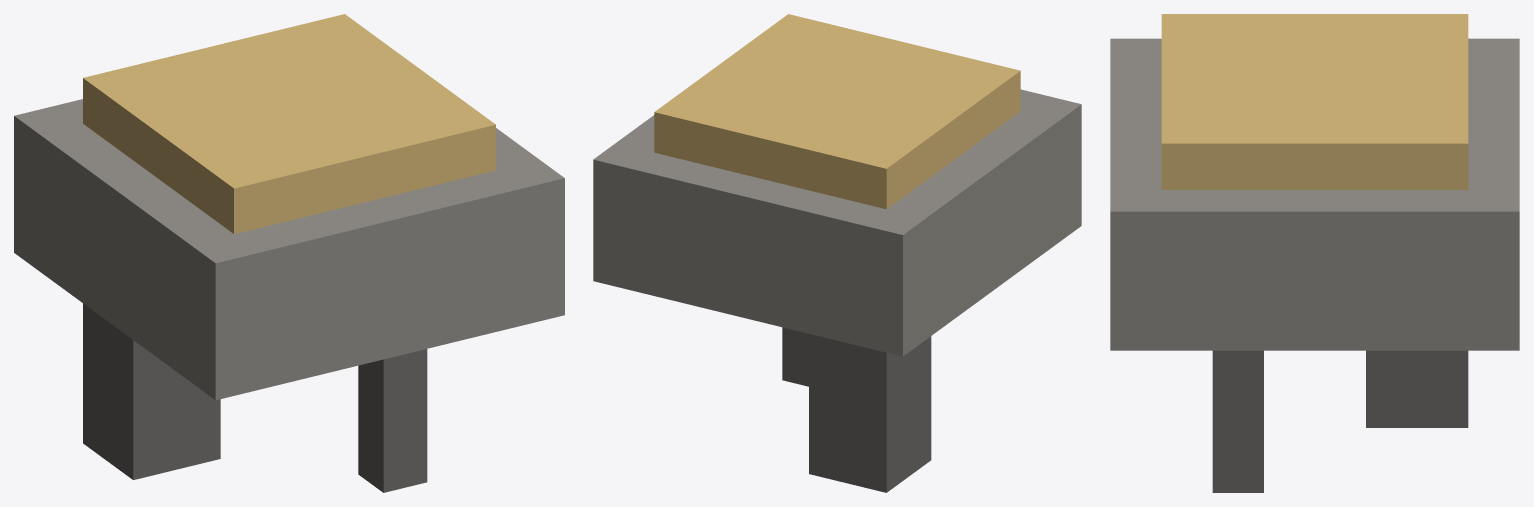
File: brasero_01.glb
3 renders of one model, left to right at view 1: azimuth 30°, elevation 25°; view 2: azimuth 150°, elevation 25°; view 3: azimuth 270°, elevation 25°, orthographic. The views are drawn at different scales.
Parts seen in each view (by area): view 1: brasero; view 2: brasero; view 3: brasero.
Boxes of the visible parts, x1,y1,x2,y2 form: brasero: (14,14,564,492); brasero: (593,14,1081,492); brasero: (1110,14,1519,492).
Size of the model in its own units: 0.5714 by 0.5714 by 0.5714.
